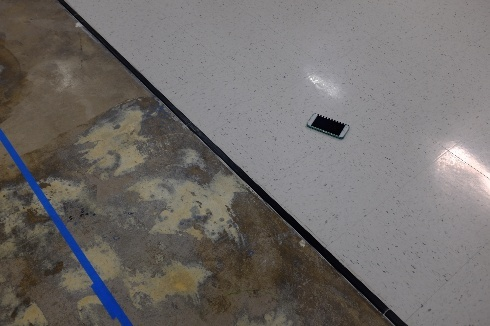phone: (302, 110, 351, 142)
